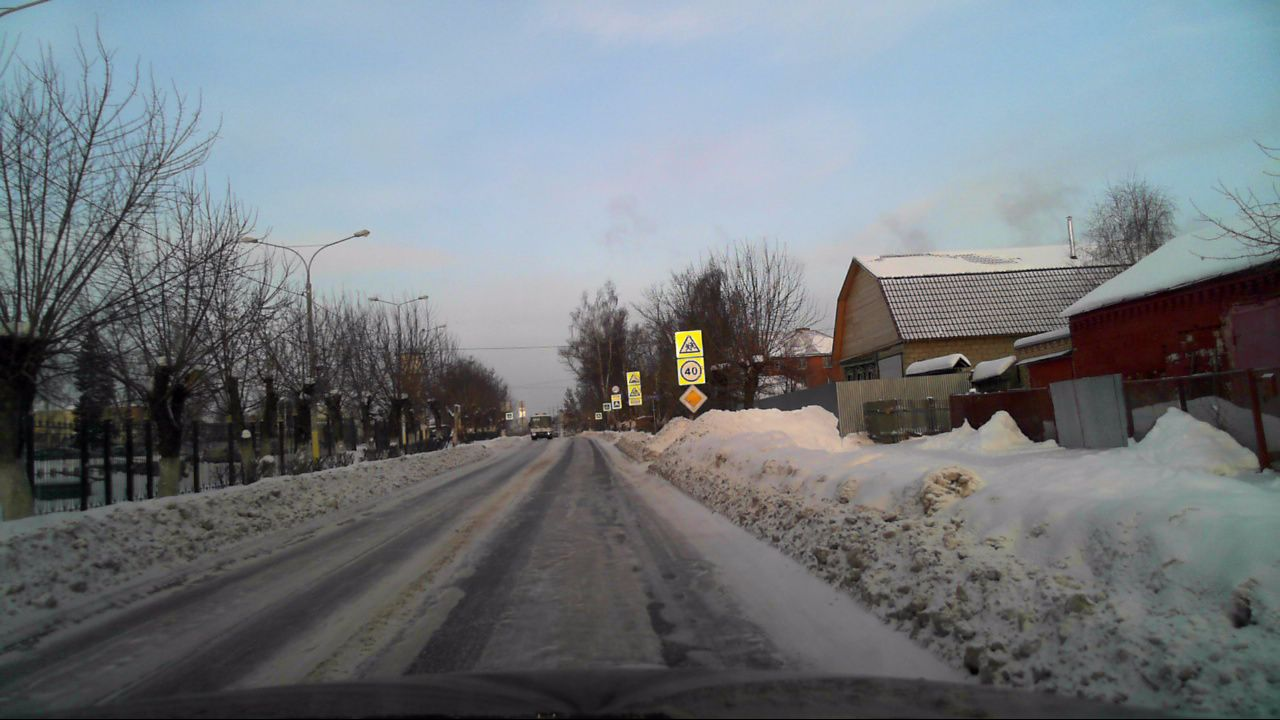speed_warning_40: (677, 358, 704, 383)
